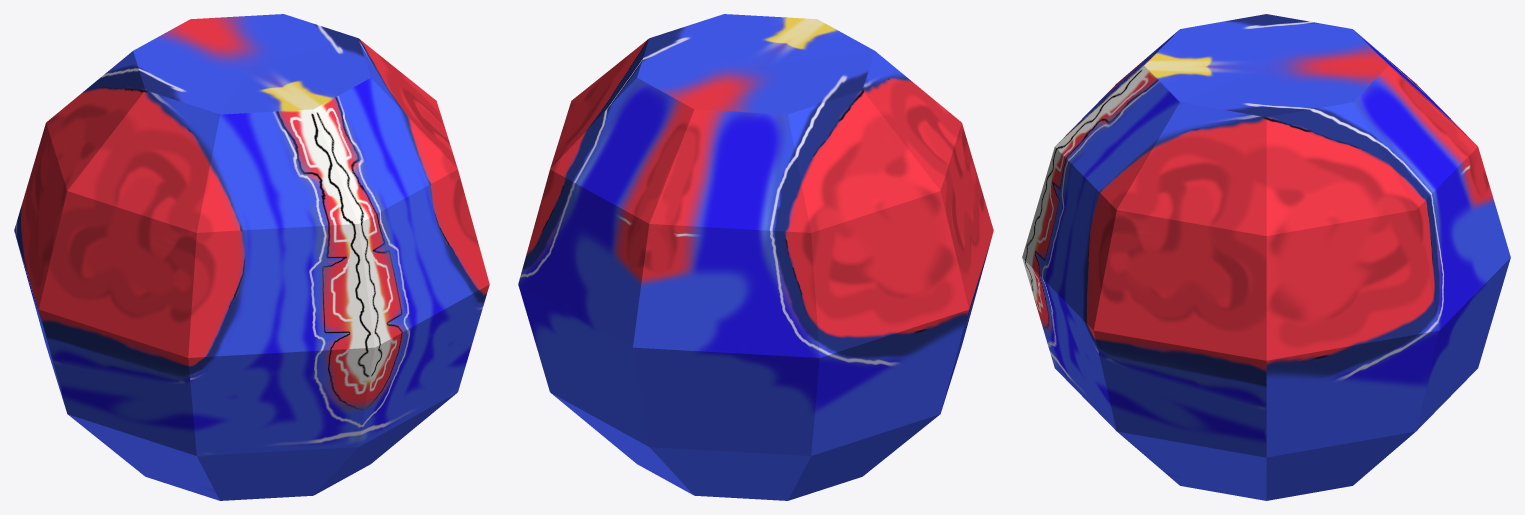
The model's file is cuerpo.fbx.
The picture shows the model from 3 angles, left to right: view 1: azimuth 30°, elevation 25°; view 2: azimuth 150°, elevation 25°; view 3: azimuth 270°, elevation 25°; orthographic projection.
Parts seen in each view (by area): view 1: CBCuerpo; view 2: CBCuerpo; view 3: CBCuerpo.
Boxes of the visible parts, bbox=[...] form: CBCuerpo: bbox=[14, 14, 489, 500]; CBCuerpo: bbox=[518, 14, 993, 500]; CBCuerpo: bbox=[1022, 14, 1510, 500].
Bounding box in the file's own units: 972 × 841 × 972.
